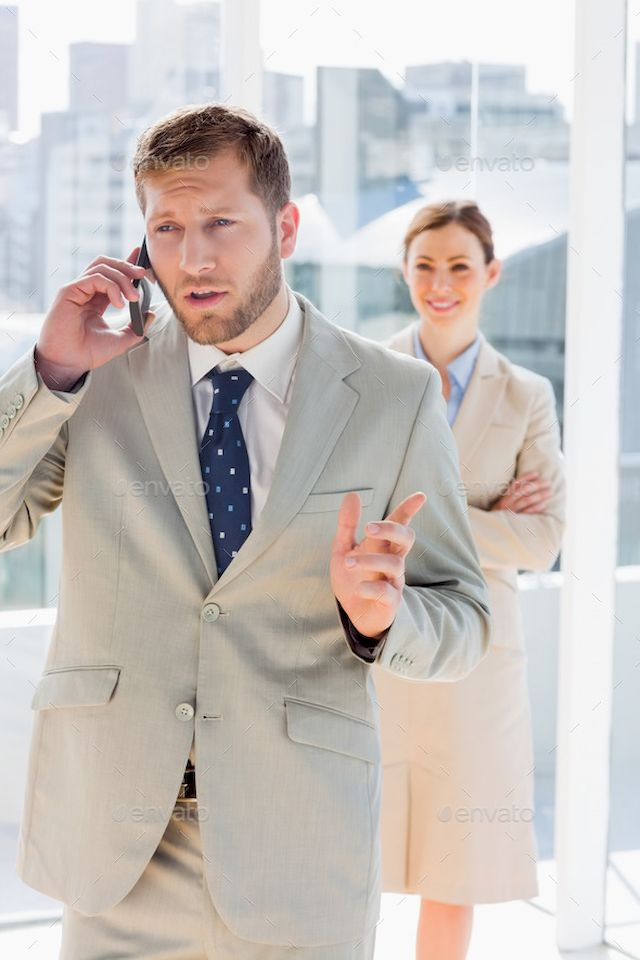phone: (122, 227, 168, 339)
talk: (48, 187, 264, 373)
